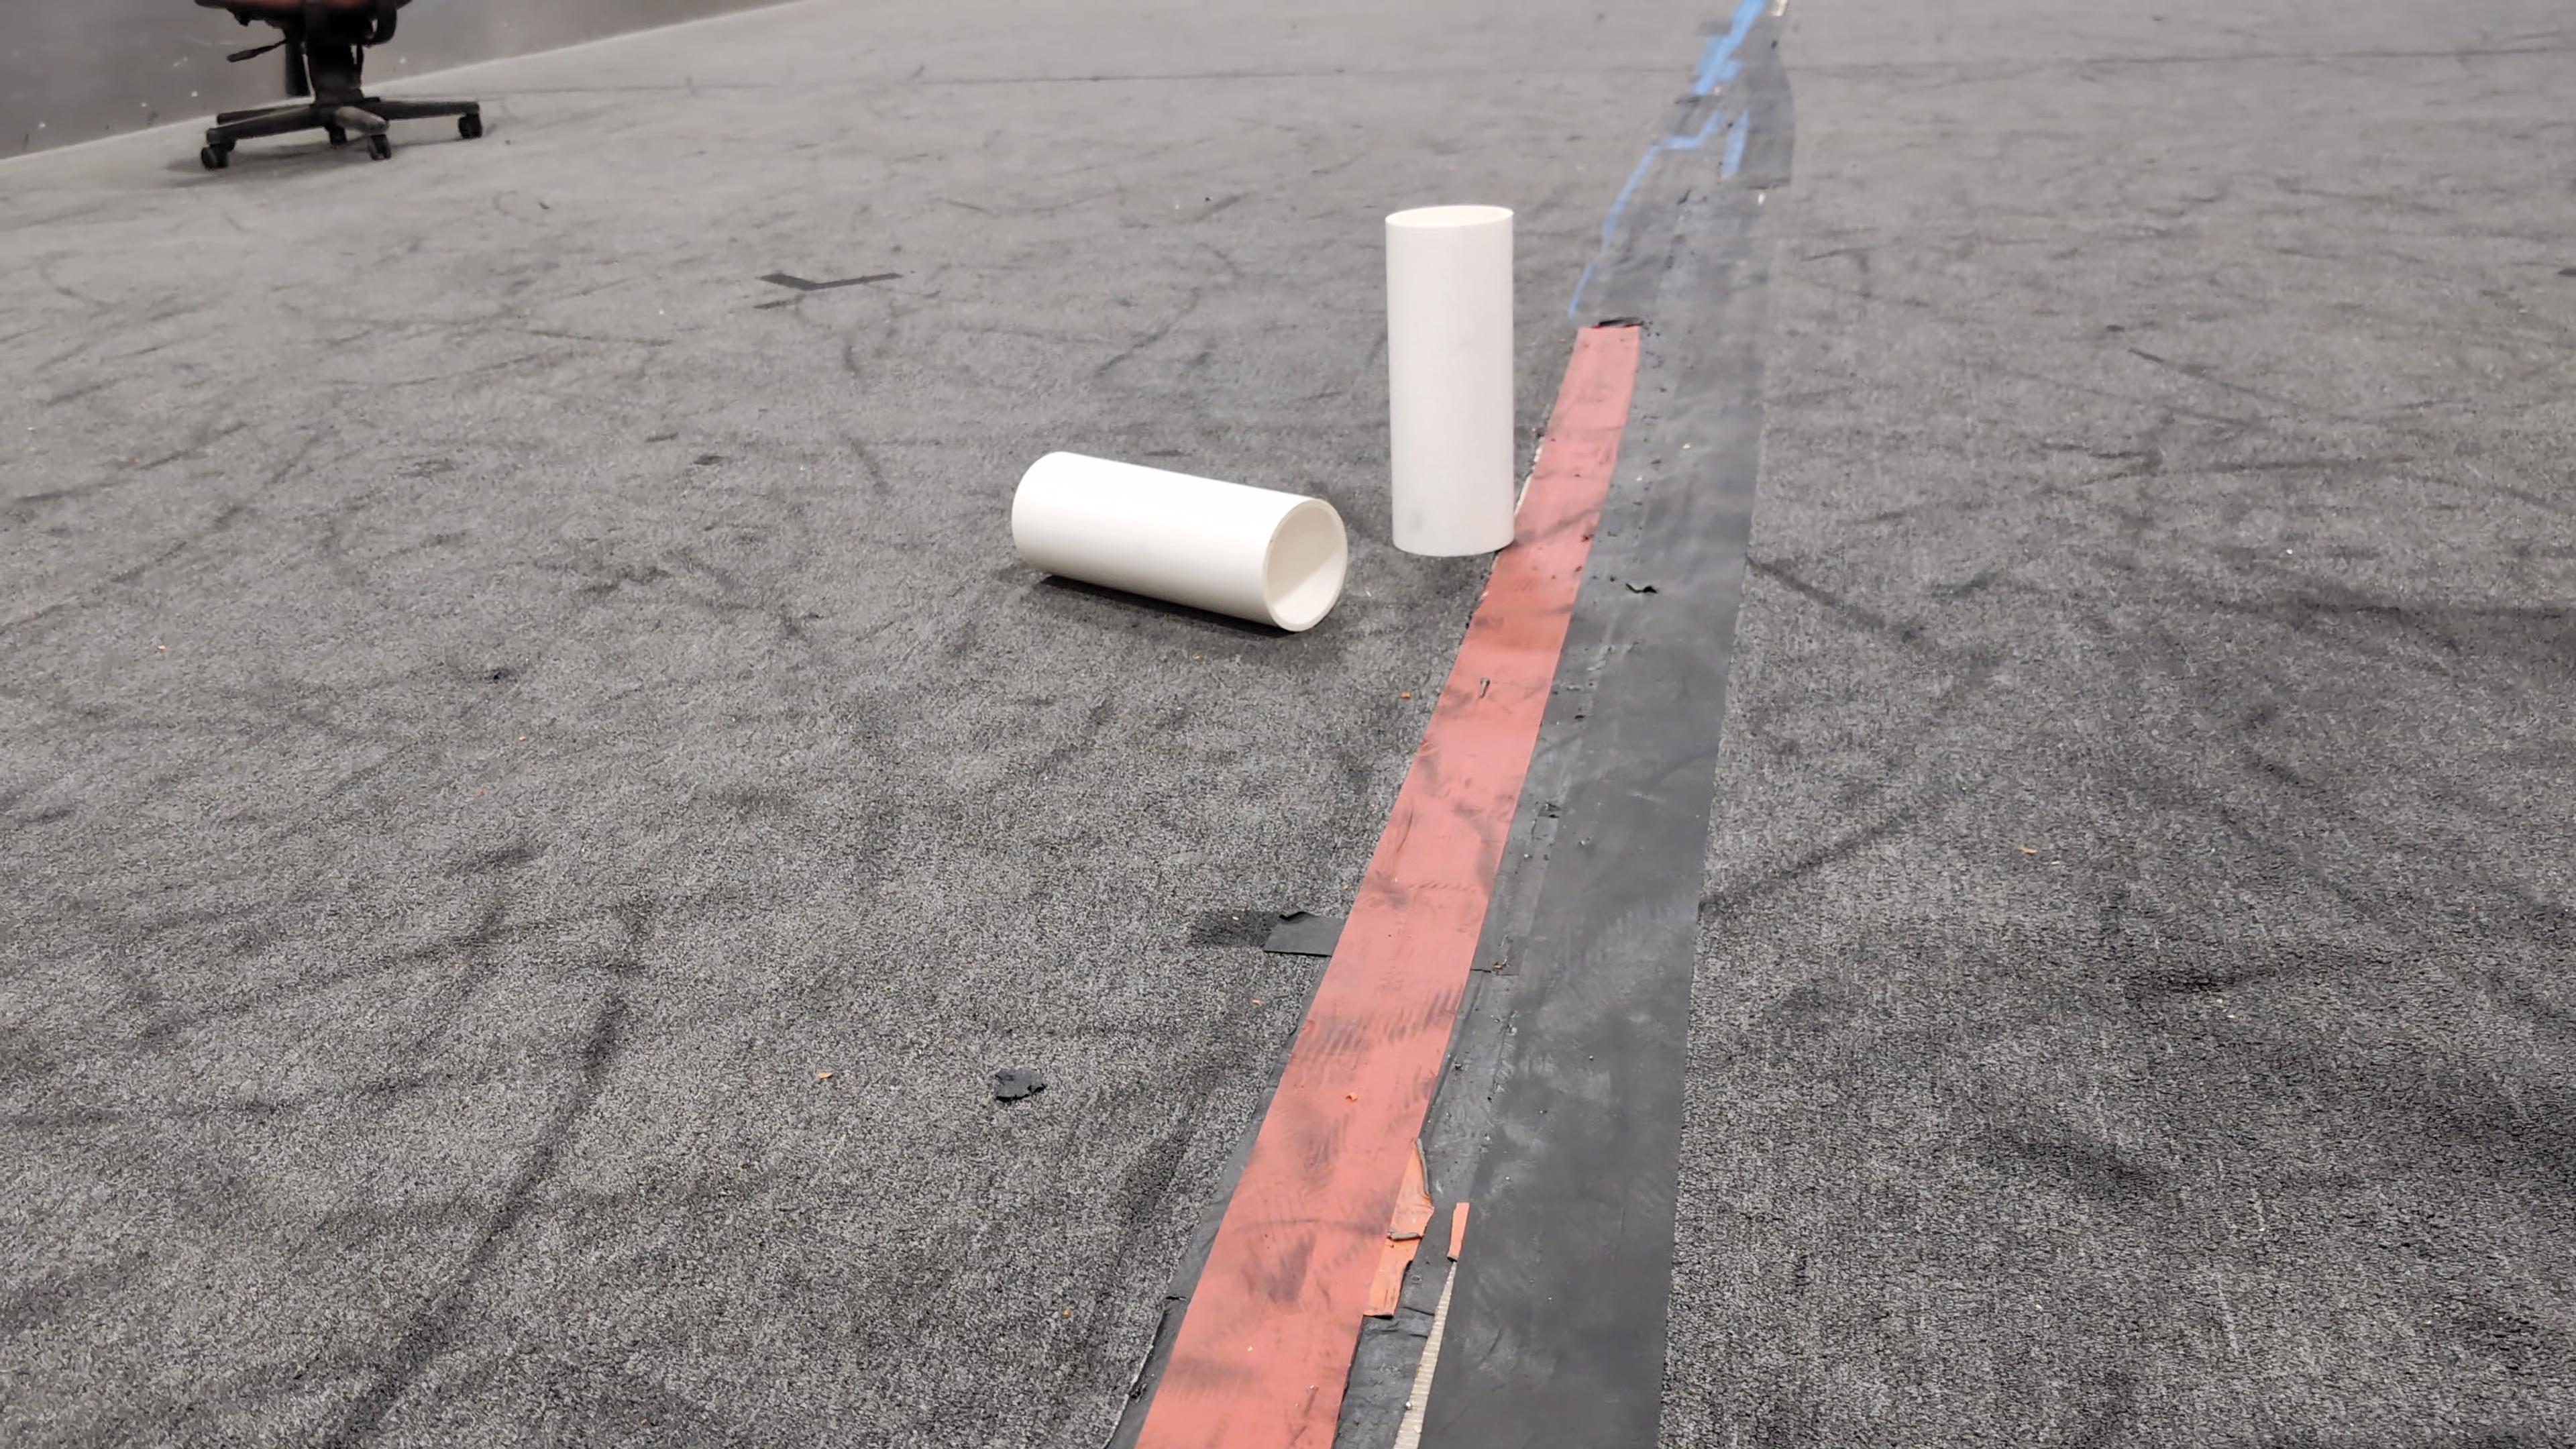coral: (1008, 444, 1352, 633), (1380, 198, 1525, 557)
